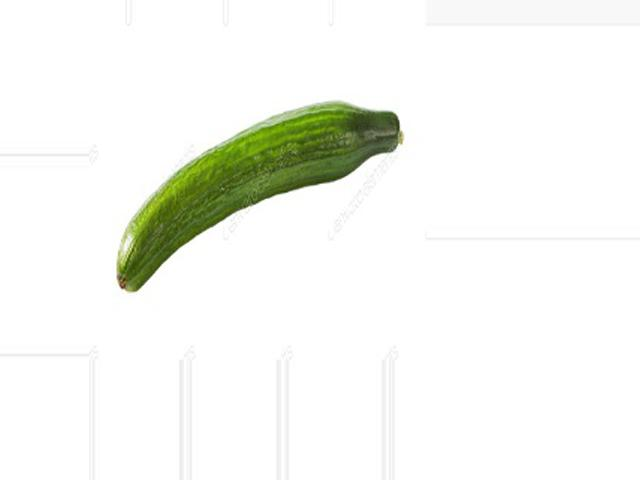cucumber: (116, 101, 404, 293)
